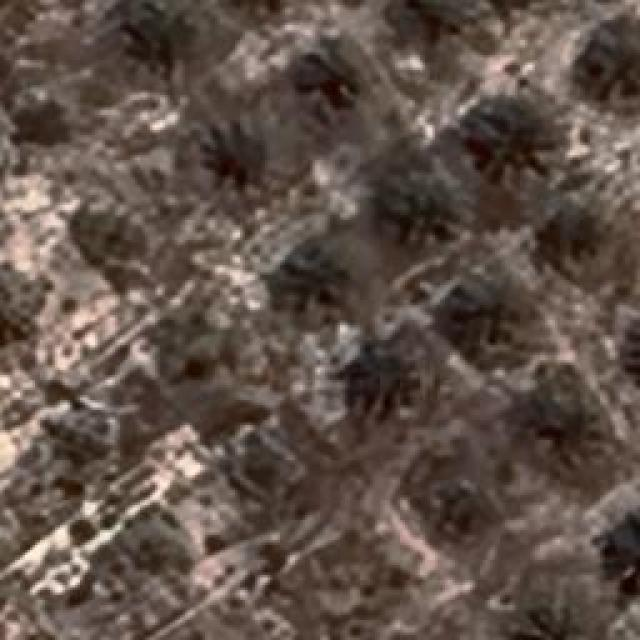PalmTree: (66, 72, 575, 236), (18, 91, 66, 307), (289, 230, 379, 325), (384, 170, 474, 255), (466, 96, 554, 182), (334, 329, 416, 419), (112, 1, 200, 81), (204, 118, 286, 202), (521, 386, 599, 474), (304, 40, 378, 125), (570, 10, 638, 100), (113, 510, 194, 580), (458, 288, 528, 362), (393, 0, 471, 52), (595, 515, 640, 595), (520, 602, 590, 640), (616, 310, 640, 392), (0, 260, 22, 348), (218, 0, 298, 21), (621, 310, 640, 394), (213, 0, 299, 15), (216, 0, 300, 10)
